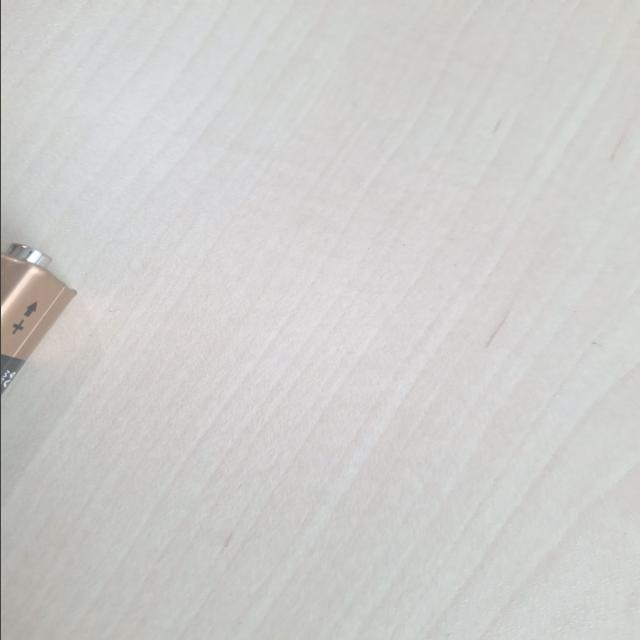9V: (112, 0, 316, 56)
